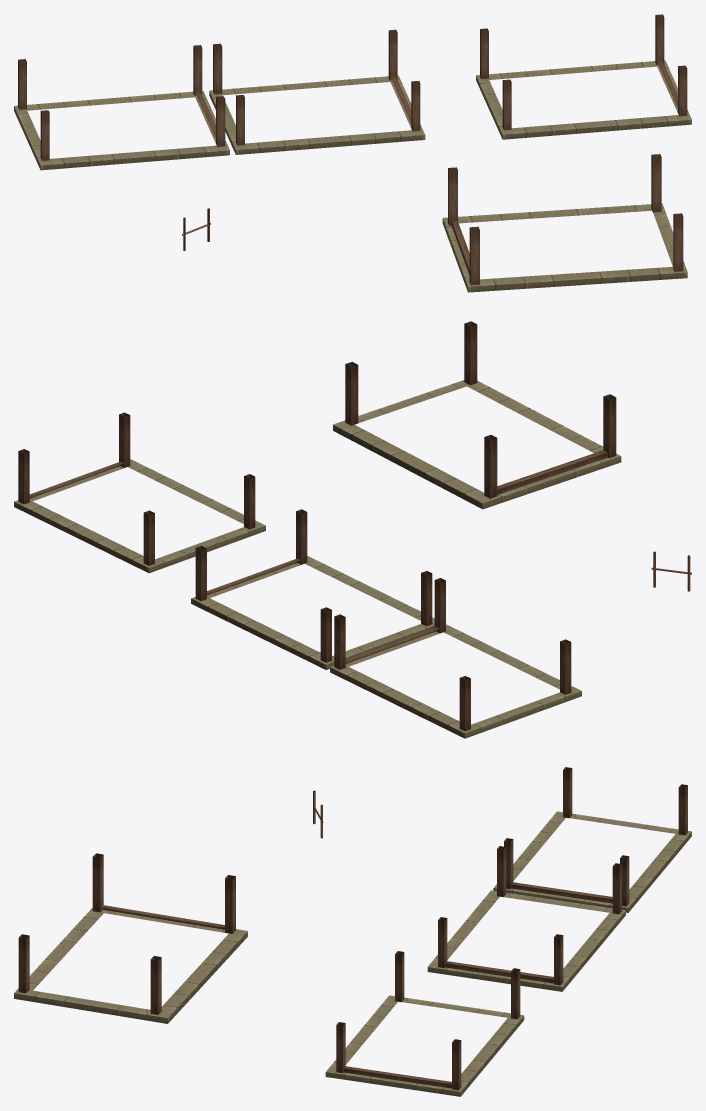
File: Area_11_12.fbx
The picture shows the model from 3 angles, top to bottom: view 1: azimuth 30°, elevation 25°; view 2: azimuth 150°, elevation 25°; view 3: azimuth 270°, elevation 25°; orthographic projection. The views are drawn at different scales.
Visible parts, largest first — view 1: Area_11_12; view 2: Area_11_12; view 3: Area_11_12.
Boxes of the visible parts, x1,y1,x2,y2 form: Area_11_12: (14, 14, 691, 292); Area_11_12: (14, 321, 691, 738); Area_11_12: (14, 767, 691, 1096).
Bounding box in the file's own units: 4297 × 429 × 4388.
